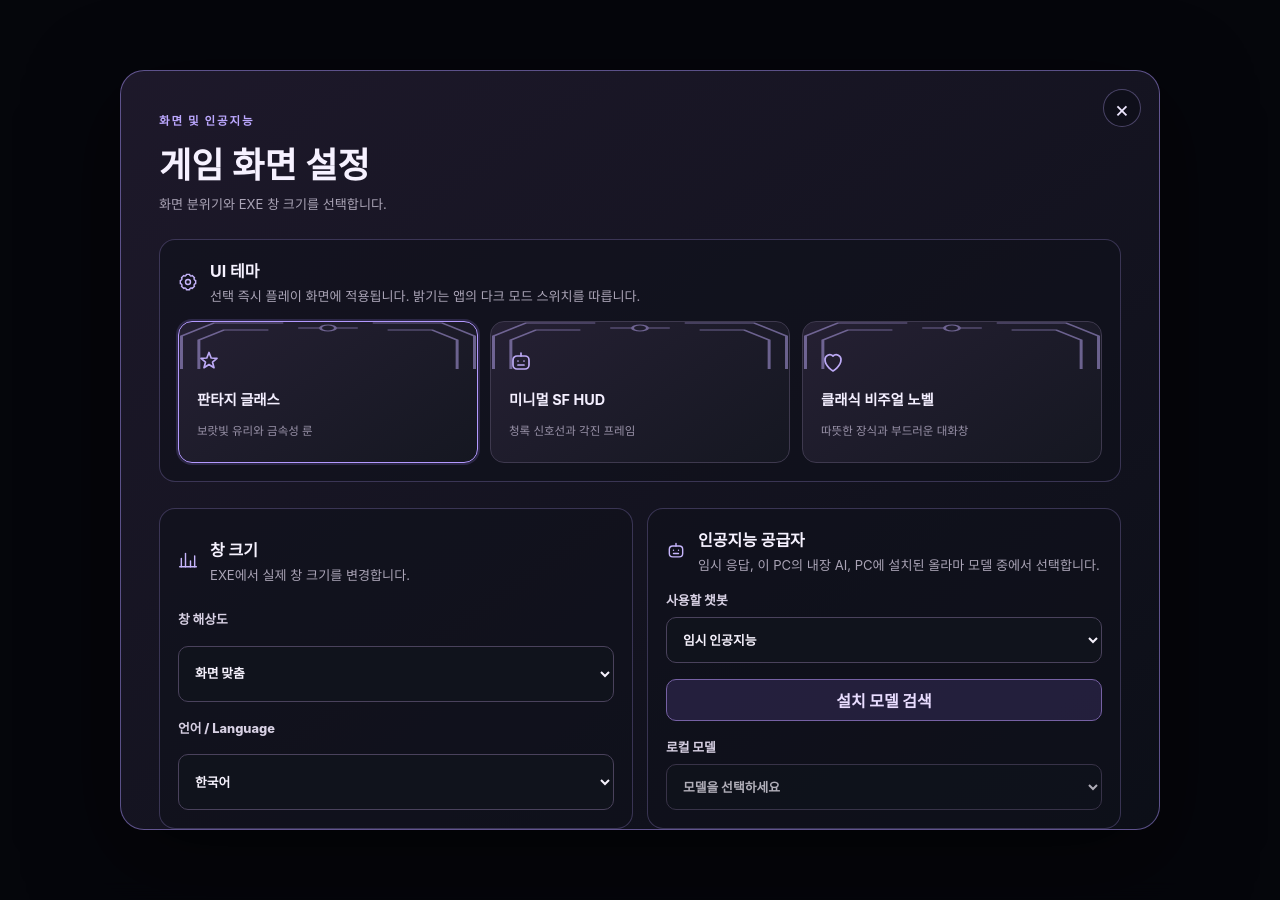
it: Text-Play 설정 대화상자 › 해상도와 설치된 로컬 모델을 검색하고 올라마 공급자로 저장한다
Select "1600×900" in the dropdown labelled "창 해상도": (396, 674) 178,646 -> 614,702
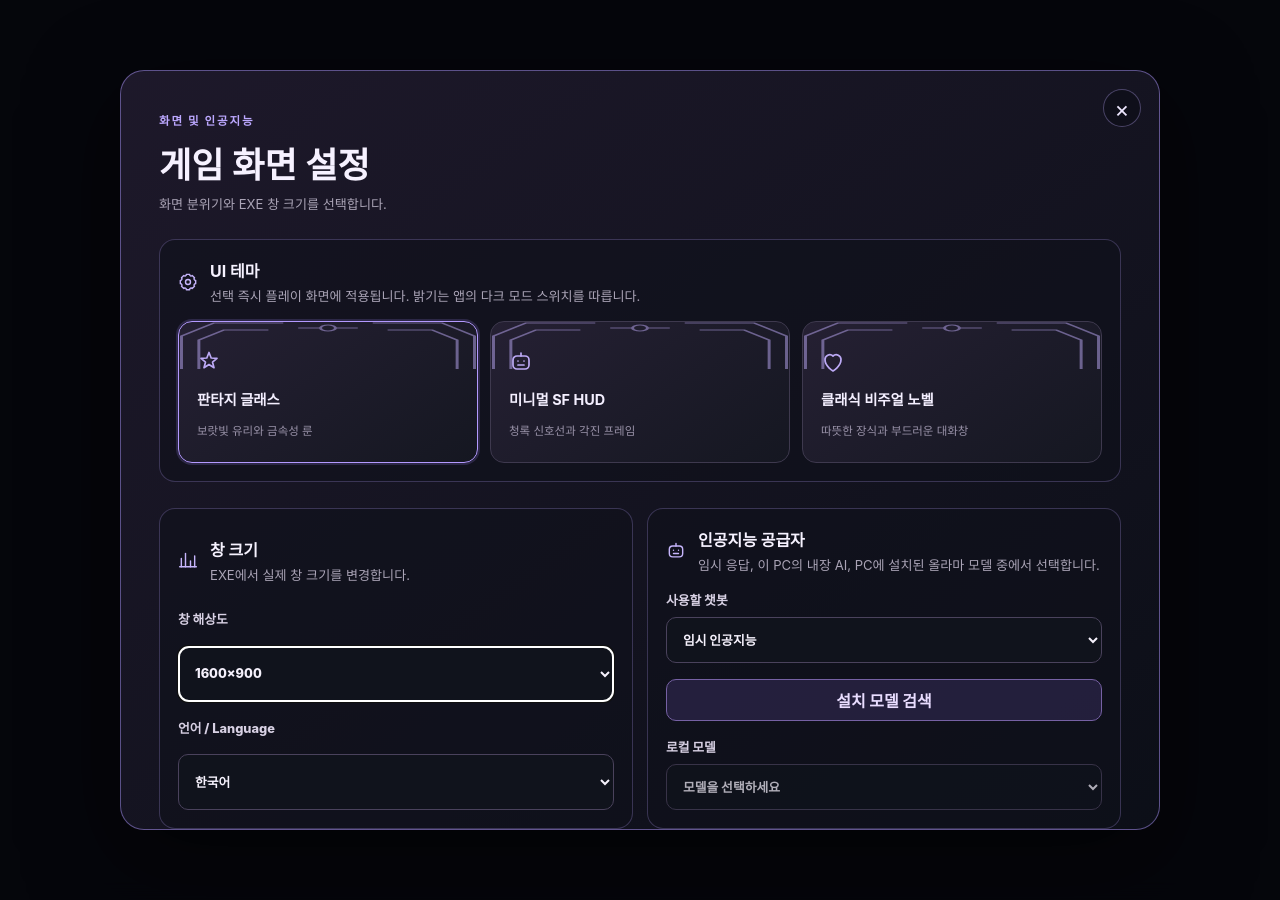
Click the button "설치 모델 검색": (884, 700) 666,679 -> 1102,721
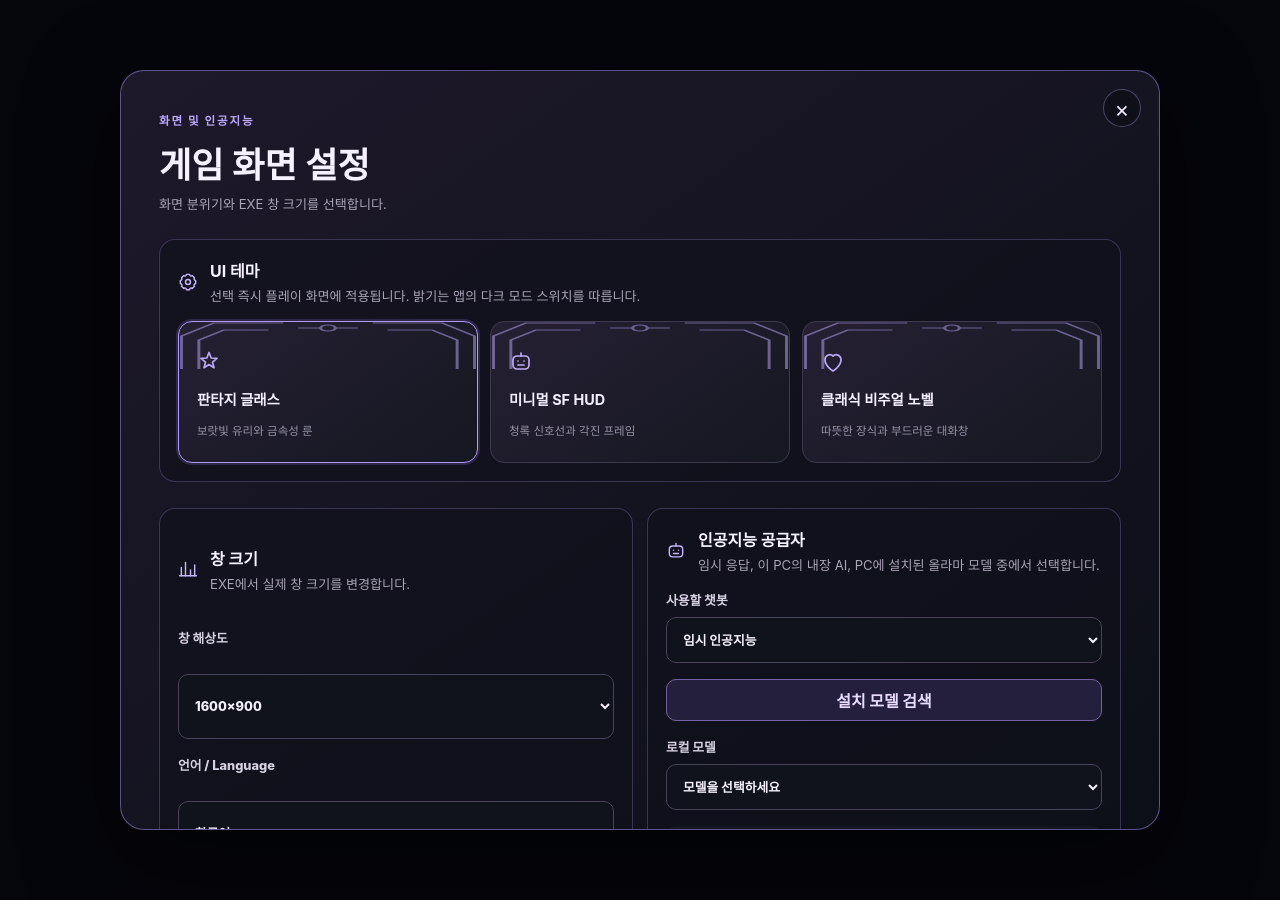
Select "qwen3:8b" in the dropdown labelled "로컬 모델": (884, 787) 666,764 -> 1102,810
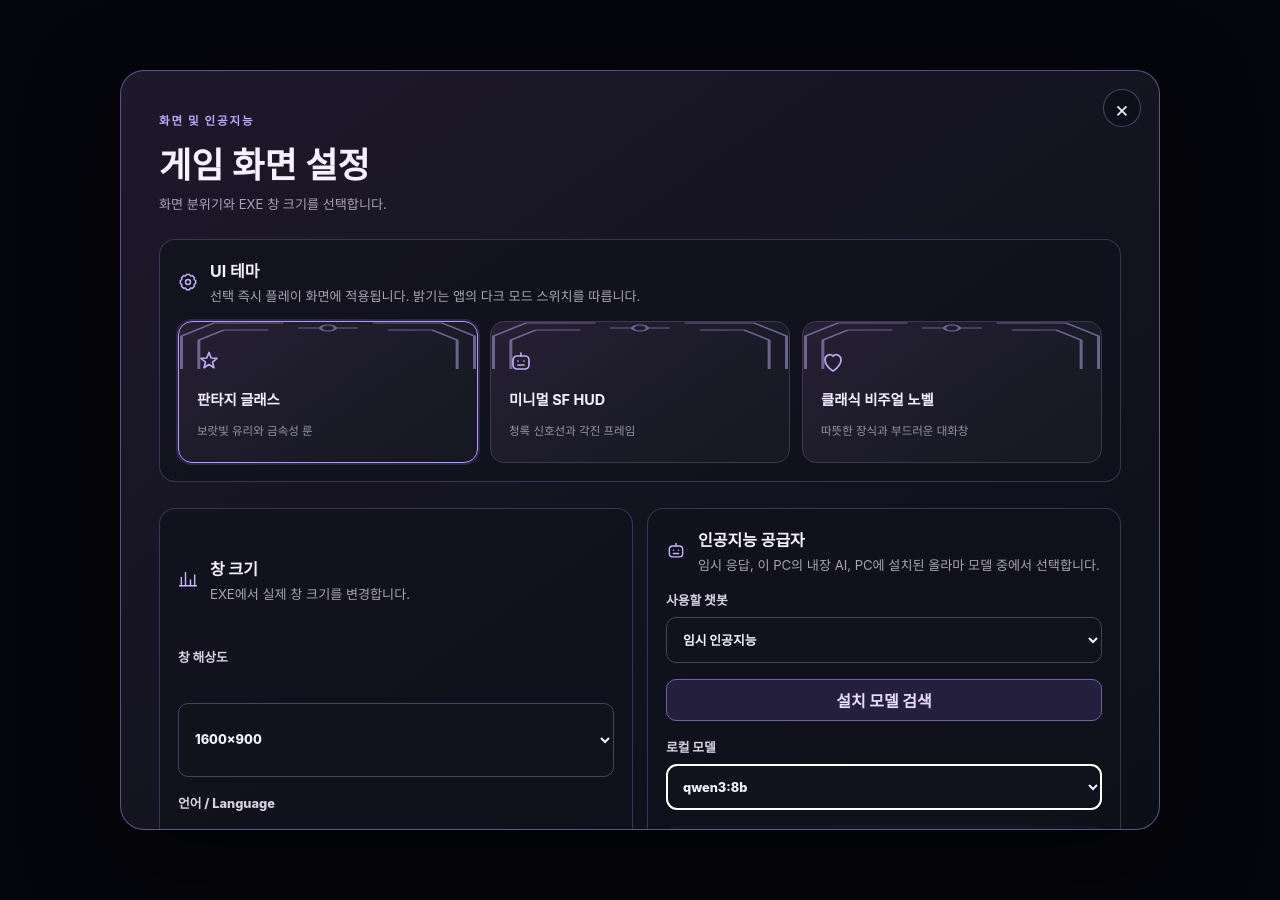
Select "올라마 로컬 모델" in the dropdown labelled "사용할 챗봇": (884, 640) 666,617 -> 1102,663
(page scrolled)
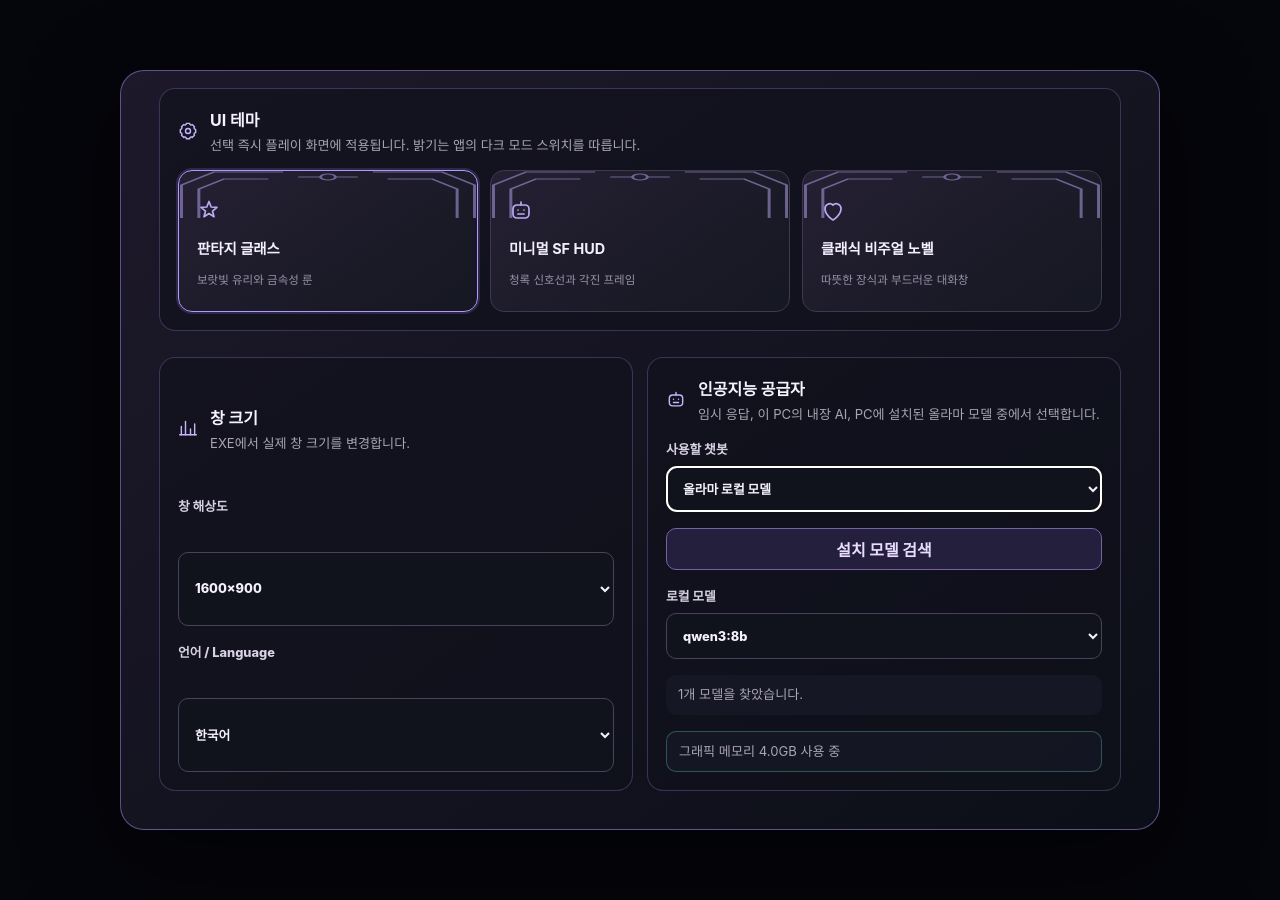
expect the text "그래픽 메모리 4.0GB 사용 중" is shown: met, box 666,731 -> 1102,772
